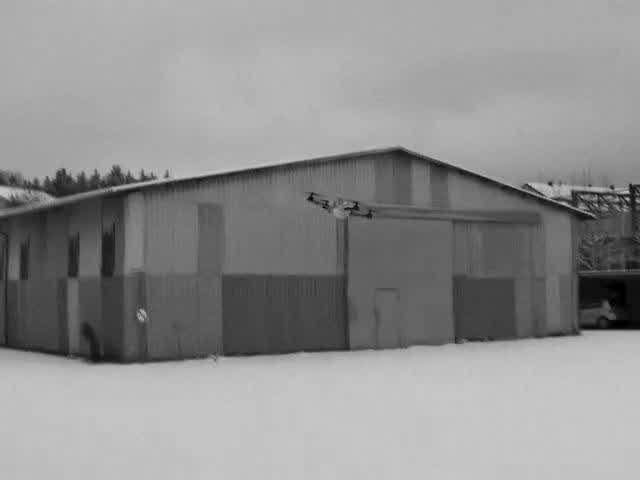drone: (302, 187, 374, 224)
